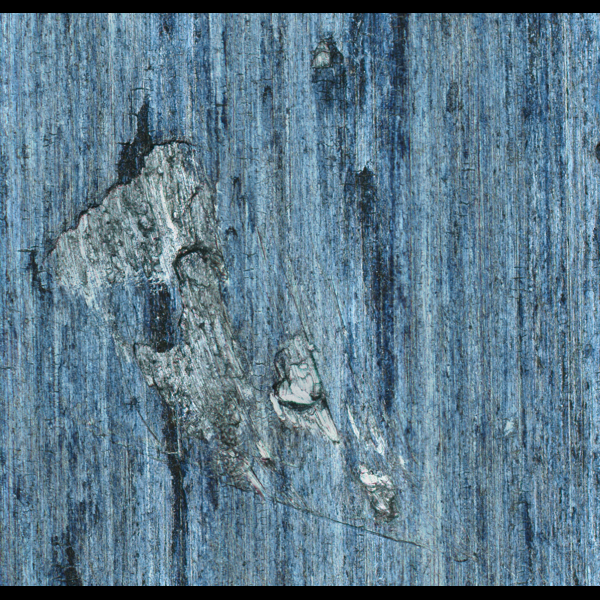d: (22, 99, 414, 525), (307, 33, 350, 97)
